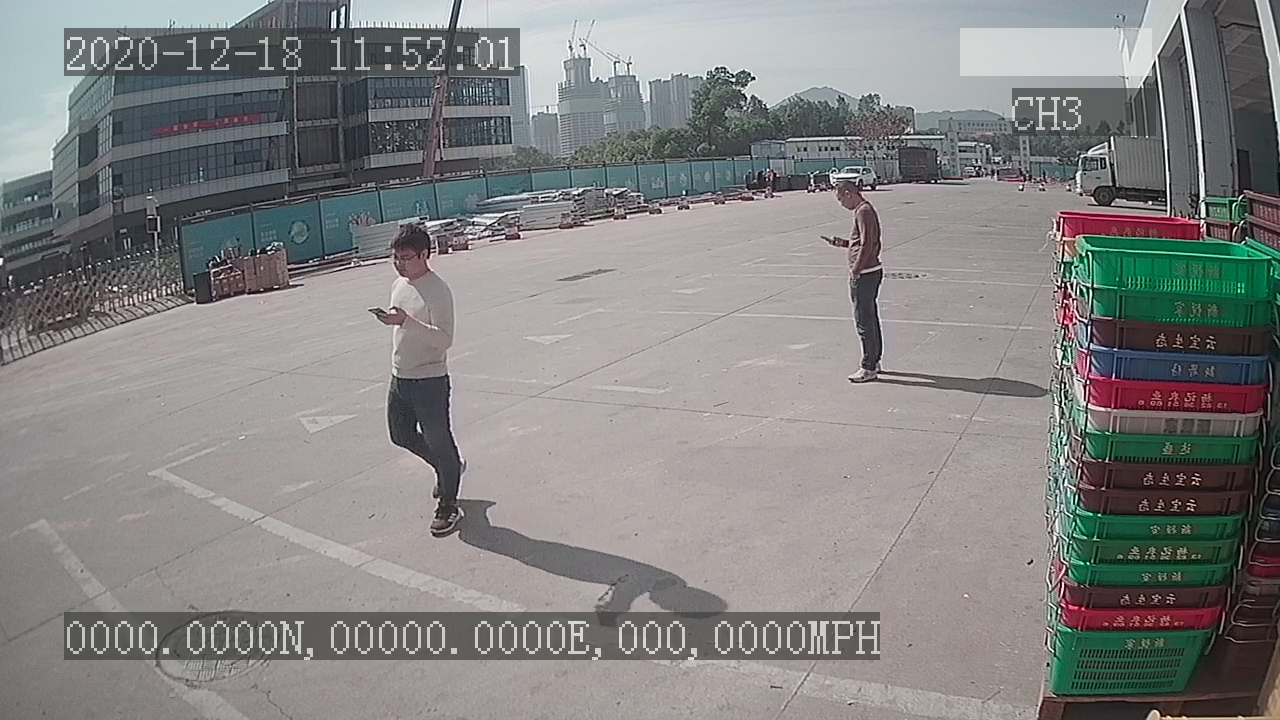person: (367, 217, 472, 542), (818, 174, 893, 390)
